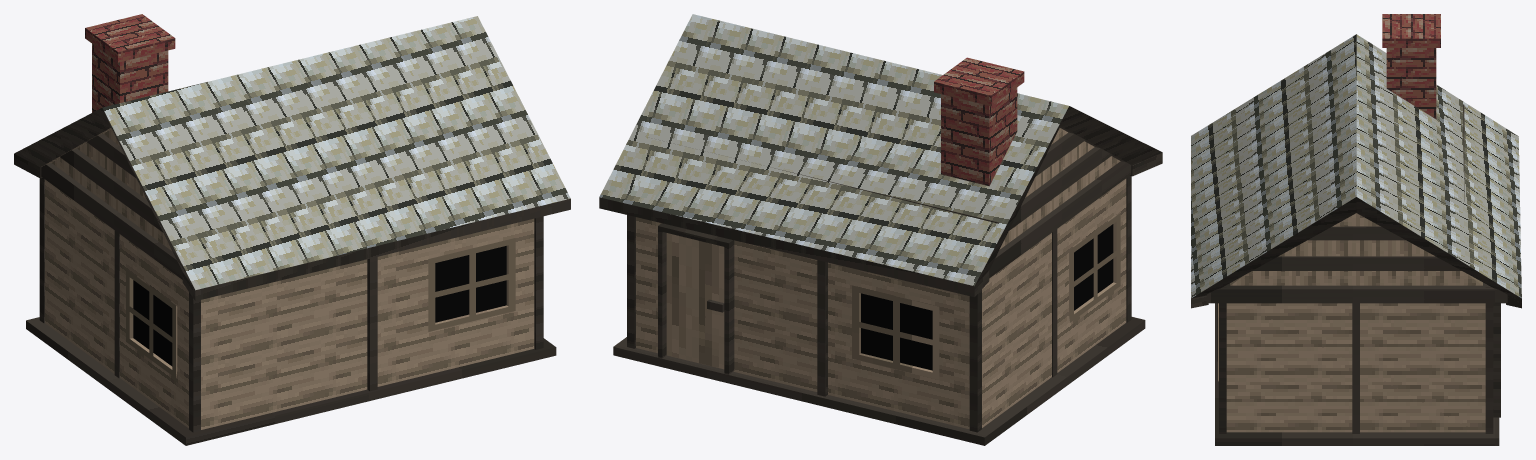
File: hut.fbx
3 renders of one model, left to right at view 1: azimuth 30°, elevation 25°; view 2: azimuth 150°, elevation 25°; view 3: azimuth 270°, elevation 25°, orthographic. The views are drawn at different scales.
Visible parts, largest first — view 1: hut; view 2: hut; view 3: hut.
Boxes of the visible parts, x1,y1,x2,y2 form: hut: (14, 14, 570, 445); hut: (599, 14, 1162, 445); hut: (1191, 14, 1521, 445).
Size of the model in its own units: 4.91 by 3.98 by 4.22.
